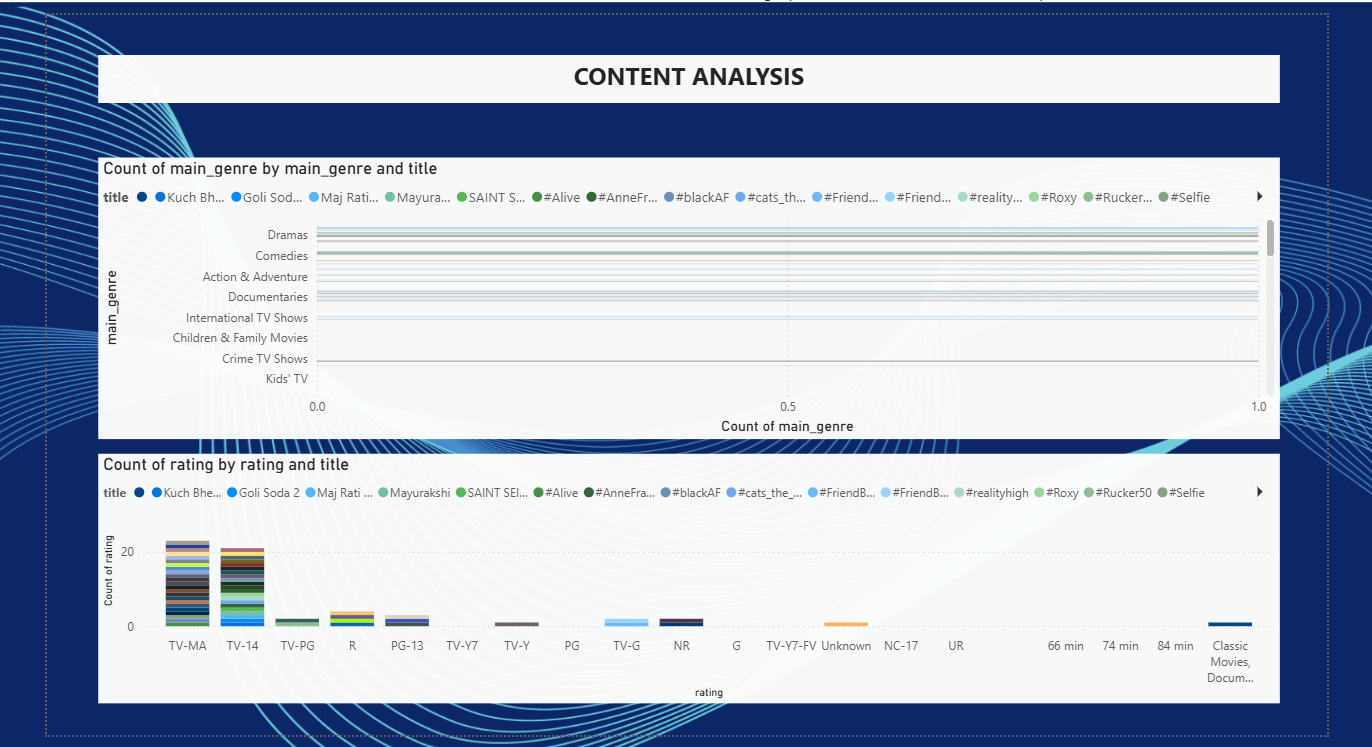

Layout of this report page (visuals, bound fields, positions):
{"tool":"powerbi","page":{"name":"Page 2","canvas":[1280,720],"ordinal":1},"visuals":[{"type":"textbox","box":[51.4,40.4,1181.3,47.7],"z":0},{"type":"clusteredBarChart","fields":{"Category":["netflix_cleaned.main_genre"],"Y":["CountNonNull(netflix_cleaned.main_genre)"],"Series":["netflix_cleaned.title"]},"box":[51.4,143.1,1181.3,281.3],"z":1000},{"type":"columnChart","fields":{"Category":["netflix_cleaned.rating"],"Y":["CountNonNull(netflix_cleaned.rating)"],"Series":["netflix_cleaned.title"]},"box":[51.4,439,1181.3,249.5],"z":2000}]}

Visuals, with their boxes on the page's 1280x720 design canvas (x1, y1, x2, y2). These are canvas units, not pixel positions in the 1372x747 screenshot, which may show the page scaled, cropped or inside an application window:
textbox: bbox=(51, 40, 1233, 88)
clusteredBarChart - netflix_cleaned.main_genre x CountNonNull(netflix_cleaned.main_genre): bbox=(51, 143, 1233, 424)
columnChart - netflix_cleaned.rating x CountNonNull(netflix_cleaned.rating): bbox=(51, 439, 1233, 688)
